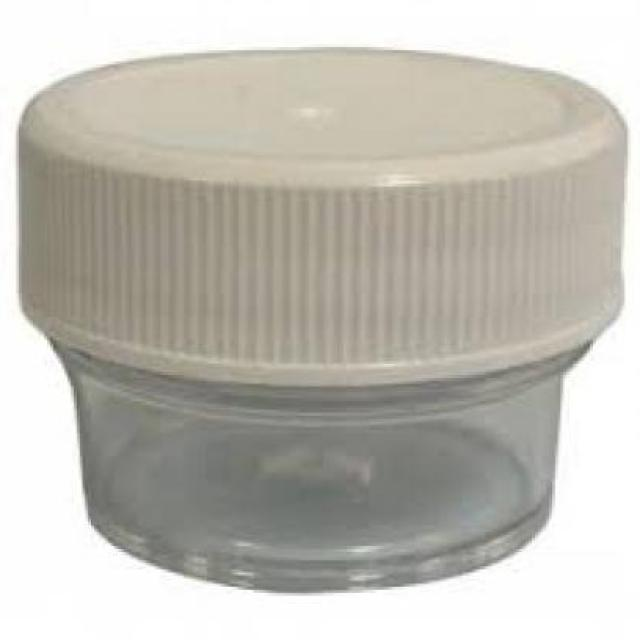kaca: (54, 340, 596, 590)
